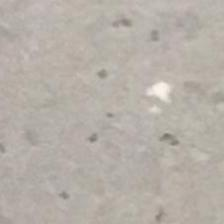Non_Crack: (36, 43, 224, 177)
